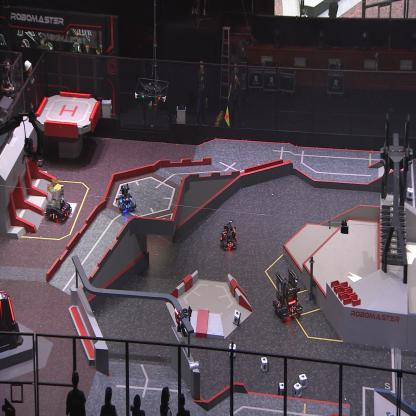car: (271, 268, 303, 322), (44, 176, 72, 224), (114, 183, 136, 214), (219, 220, 238, 251)
